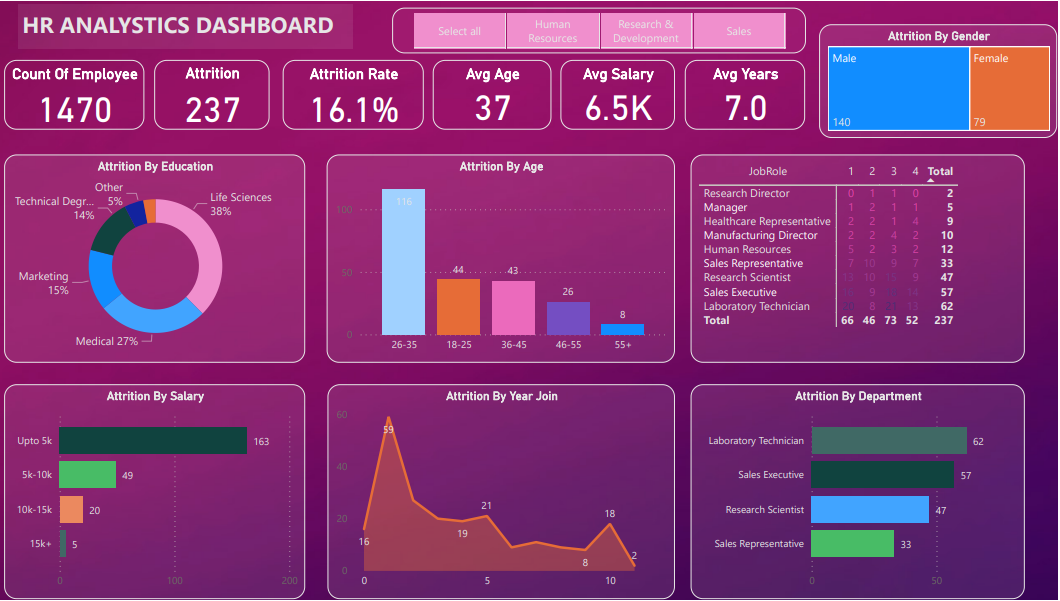

The page's visual inventory and layout, read from the dashboard file:
{"tool":"powerbi","page":{"name":"Page 1","canvas":[1280,720],"ordinal":0},"visuals":[{"type":"card","title":"Count Of Employee","fields":{"Values":["CountNonNull(HR_Analytics.EmpID)"]},"box":[10,70,168.6,84.3],"z":0},{"type":"card","title":"Avg Salary","fields":{"Values":["Avg(HR_Analytics.MonthlyIncome)"]},"box":[681.4,70,137.1,84.3],"z":1000},{"type":"card","title":"Attrition Rate","fields":{"Values":["HR_Analytics.AttritionRate"]},"box":[345.7,70,170,84.3],"z":2000},{"type":"card","title":"Attrition","fields":{"Values":["Sum(HR_Analytics.AttritionCount)"]},"box":[191.4,70,138.6,84.3],"z":3000},{"type":"card","title":"Avg Age","fields":{"Values":["Avg(HR_Analytics.Age)"]},"box":[527.1,70,142.9,84.3],"z":4000},{"type":"card","title":"Avg Years","fields":{"Values":["Avg(HR_Analytics.YearsAtCompany)"]},"box":[831.4,70,144.3,84.3],"z":5000},{"type":"donutChart","title":"Attrition By Education","fields":{"Category":["HR_Analytics.EducationField"],"Y":["Sum(HR_Analytics.AttritionCount)"]},"box":[10,184,363,251],"z":6000},{"type":"columnChart","title":"Attrition By Age","fields":{"Category":["HR_Analytics.AgeGroup"],"Y":["Sum(HR_Analytics.AttritionCount)"]},"box":[399,184,420,251],"z":7000},{"type":"pivotTable","fields":{"Rows":["HR_Analytics.JobRole"],"Columns":["HR_Analytics.JobSatisfaction"],"Values":["Sum(HR_Analytics.AttritionCount)"]},"box":[838,184,403,251],"z":8000},{"type":"barChart","title":"Attrition By Salary","fields":{"Category":["HR_Analytics.SalarySlab"],"Y":["Sum(HR_Analytics.AttritionCount)"]},"box":[10,461.4,362.9,258.6],"z":9000},{"type":"barChart","title":"Attrition By Department","fields":{"Y":["Sum(HR_Analytics.AttritionCount)"],"Category":["HR_Analytics.JobRole"]},"box":[838,461,403,259],"z":10000},{"type":"areaChart","title":"Attrition By Year Join","fields":{"Category":["HR_Analytics.YearsAtCompany"],"Y":["Sum(HR_Analytics.AttritionCount)"]},"box":[400,461.4,418.6,258.6],"z":11000},{"type":"treemap","title":"Attrition By Gender","fields":{"Group":["HR_Analytics.Gender"],"Values":["Sum(HR_Analytics.AttritionCount)"]},"box":[992.9,27.1,287.1,137.1],"z":12000},{"type":"slicer","fields":{"Values":["HR_Analytics.Department"]},"box":[477.6,7.1,498.9,55],"z":13000},{"type":"textbox","box":[27.1,2.9,402.9,54.3],"z":14000}]}

Visuals, with their boxes in screenshot pixels (x1, y1, x2, y2), scaled from the page's 1280x720 canvas onto the 1060x601 screenshot:
"Count Of Employee" card: <box>8,58,148,129</box>
"Avg Salary" card: <box>564,58,678,129</box>
"Attrition Rate" card: <box>286,58,427,129</box>
"Attrition" card: <box>159,58,273,129</box>
"Avg Age" card: <box>437,58,555,129</box>
"Avg Years" card: <box>689,58,808,129</box>
"Attrition By Education" donutChart: <box>8,154,309,363</box>
"Attrition By Age" columnChart: <box>330,154,678,363</box>
pivotTable - HR_Analytics.JobRole x HR_Analytics.JobSatisfaction: <box>694,154,1028,363</box>
"Attrition By Salary" barChart: <box>8,385,309,600</box>
"Attrition By Department" barChart: <box>694,385,1028,600</box>
"Attrition By Year Join" areaChart: <box>331,385,678,600</box>
"Attrition By Gender" treemap: <box>822,23,1059,137</box>
slicer - HR_Analytics.Department: <box>396,6,809,52</box>
textbox: <box>22,2,356,48</box>
